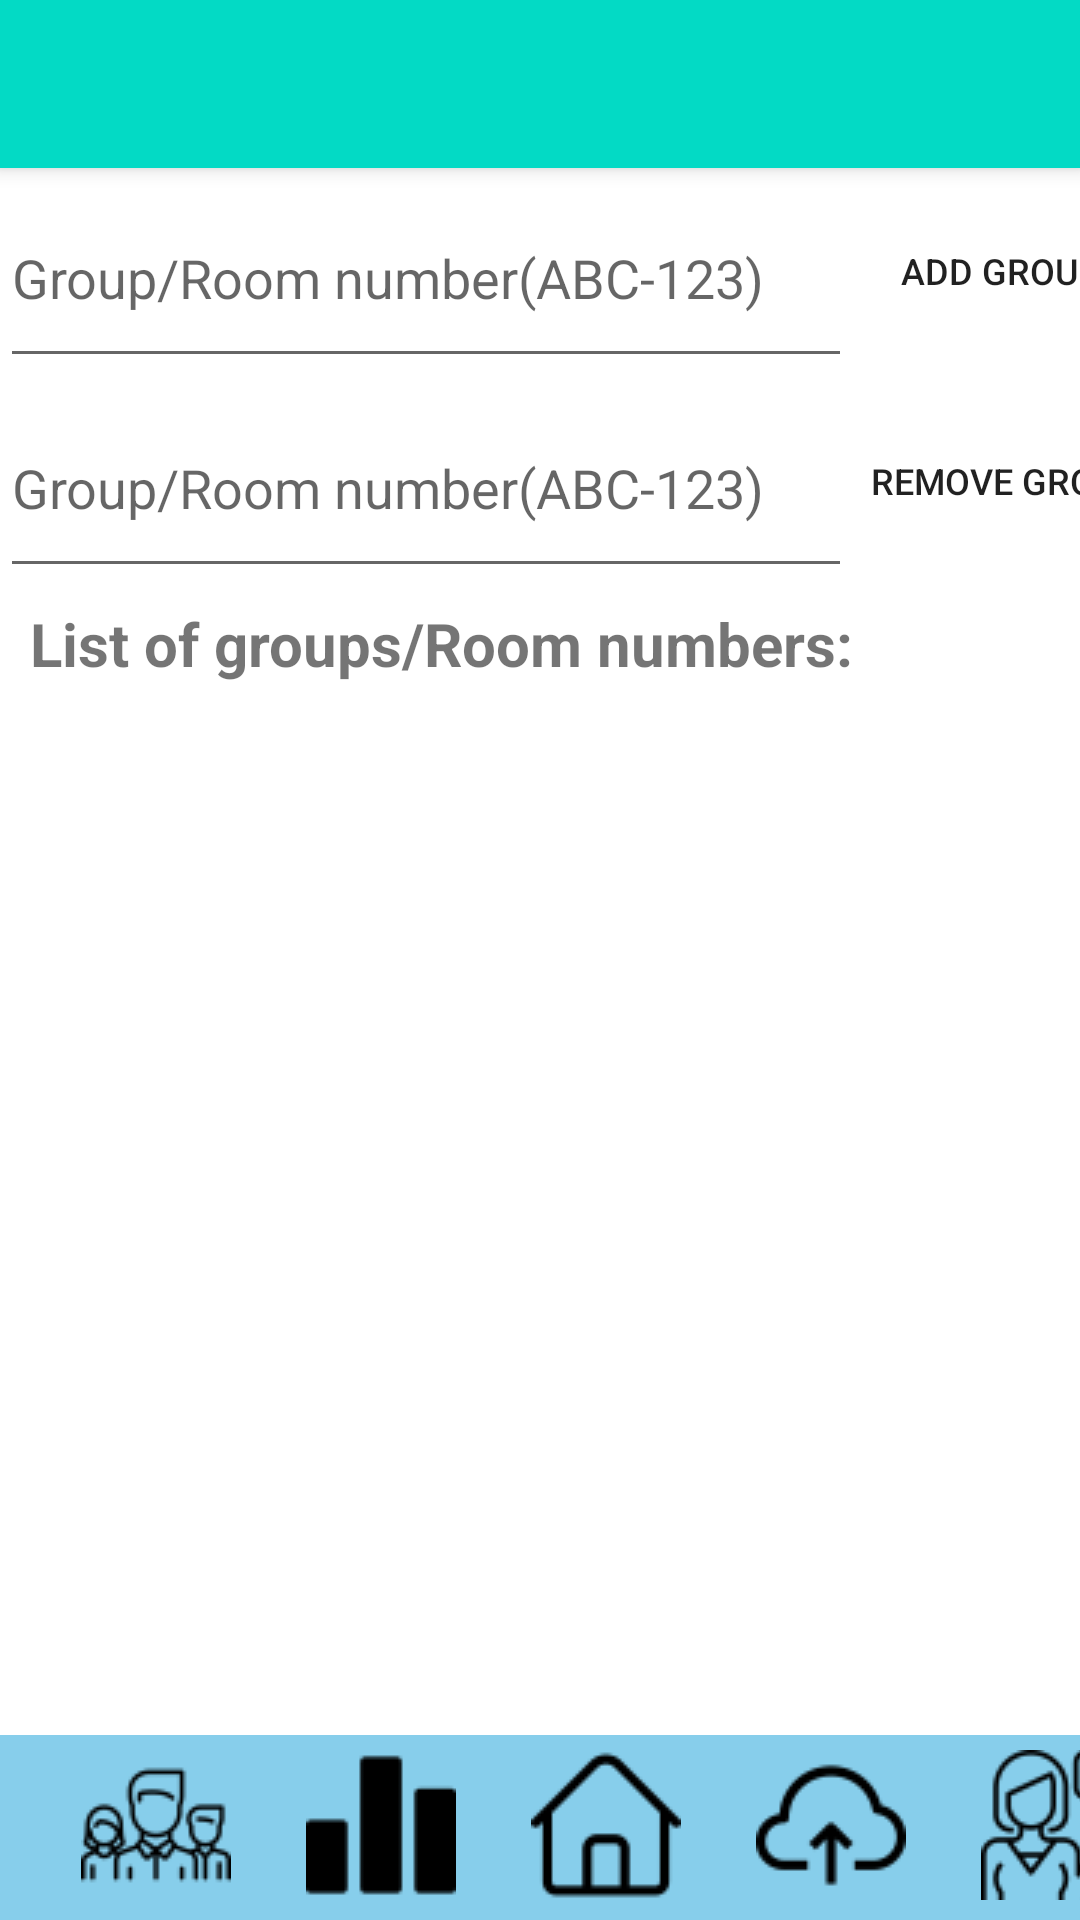

Icons on this 1080×1920 Android screen, each with the point to tap as (x=x, y=y):
housez: (x=606, y=1825)
statisticalz: (x=381, y=1825)
teamz: (x=156, y=1824)
uploadz: (x=831, y=1825)
